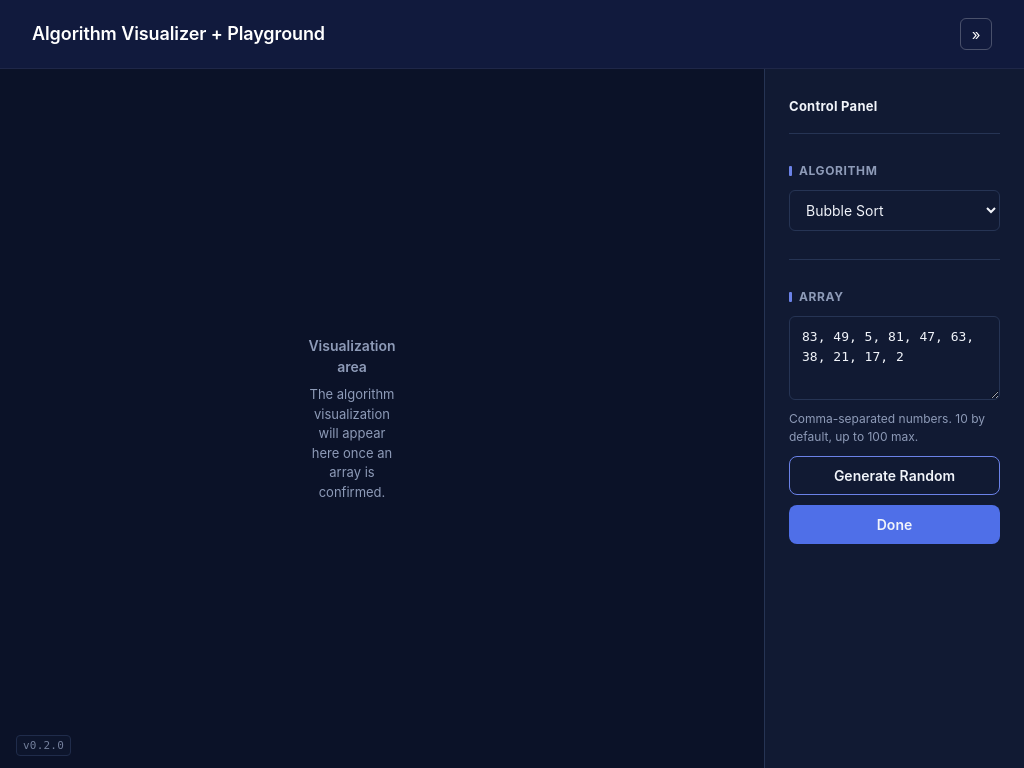
Test: App — Done still works end-to-end (MVP Polish Pass regression check) › confirming an array via Done wires ArrayInput through to the Visualizer, including the step indicator
This screenshot has width=1024, height=768.
Replace the text in the text box labelled "Array" with "8, 3, 5, 1" at (894, 358), box [789, 316, 1000, 400]
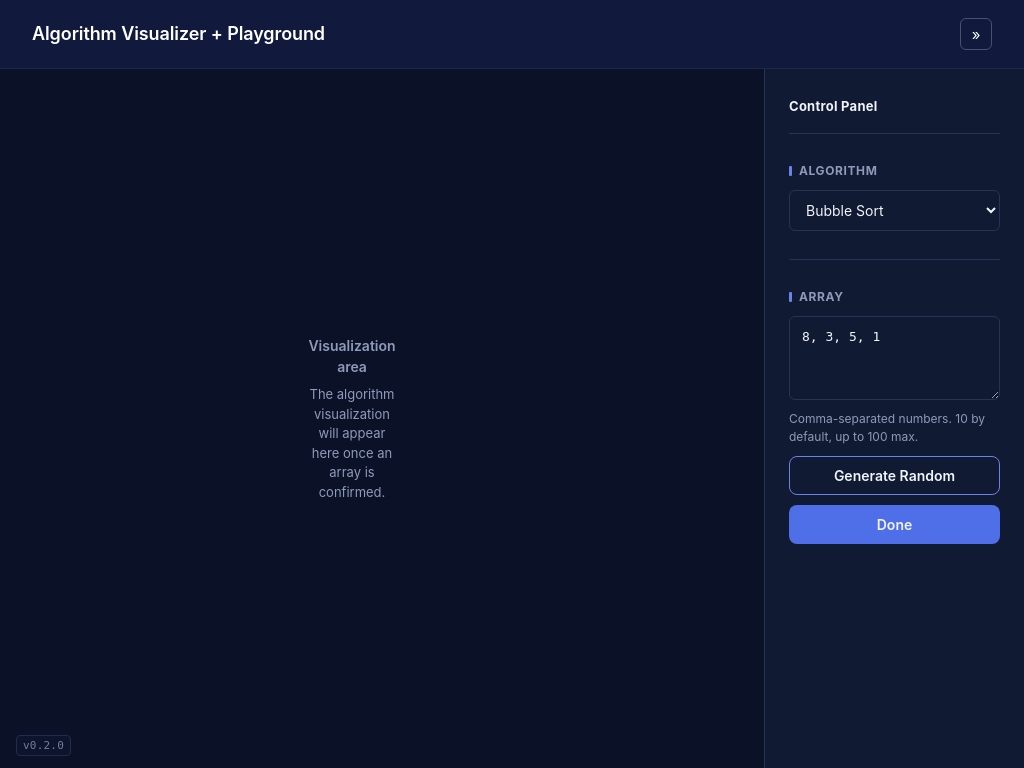
Click the button "Done" at (894, 524), box [789, 505, 1000, 544]
(page scrolled)
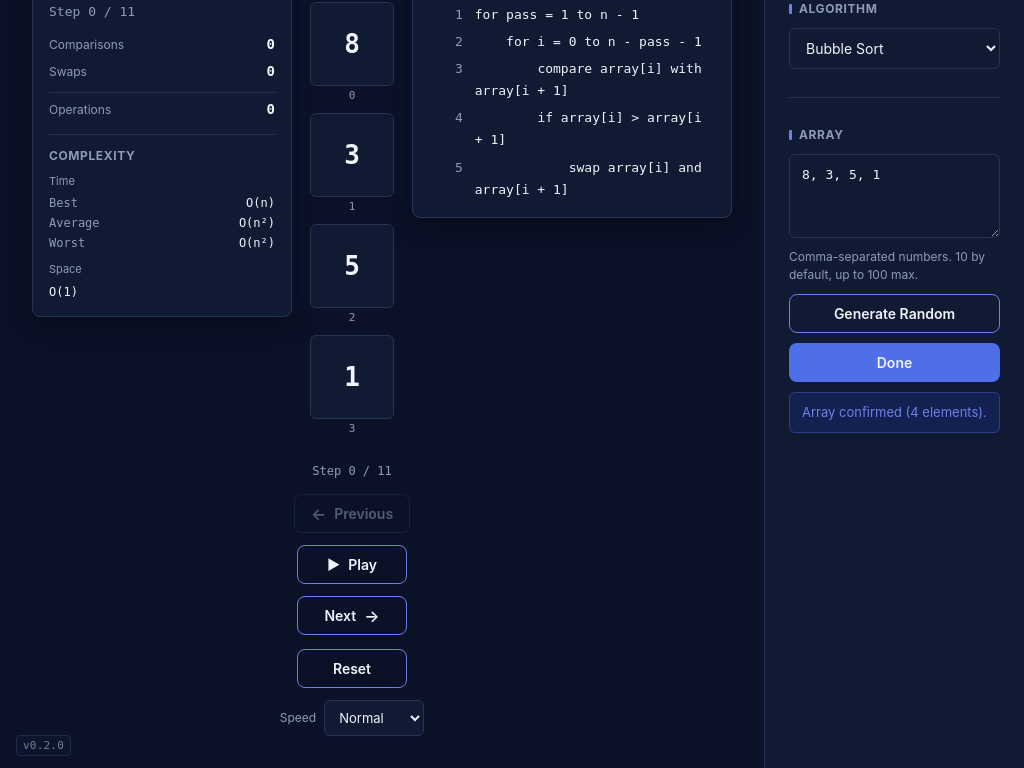
Now the 2nd text "Step 0 / 11" is shown, box [312, 462, 392, 480]
Now the button "Next →" is enabled
Click the button "Next →" at (352, 616), box [297, 596, 407, 635]
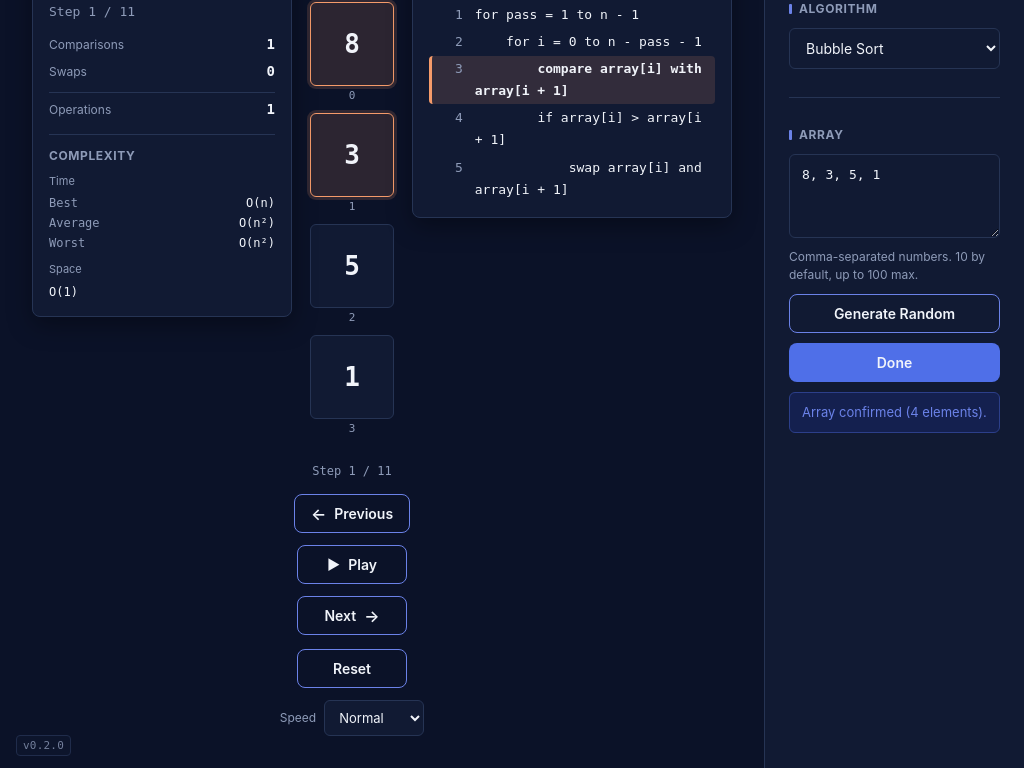
Now the 2nd text "Step 1 / 11" is shown, box [312, 462, 392, 480]
